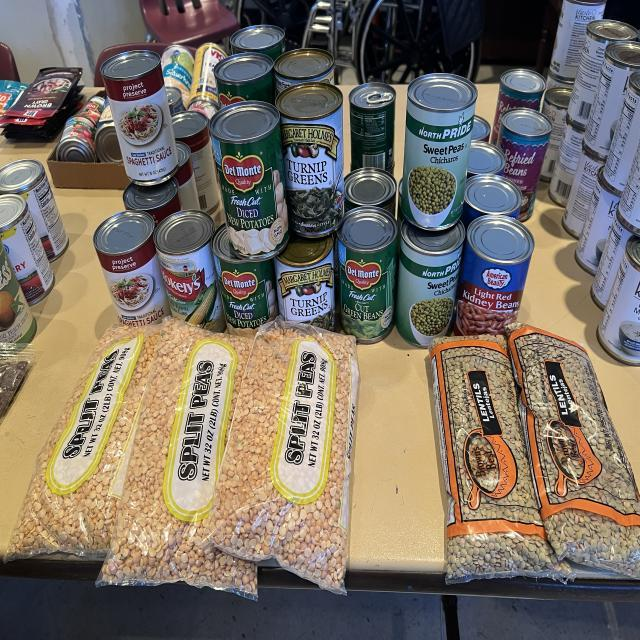Canned Food: (210, 100, 289, 260), (400, 73, 478, 230), (275, 83, 344, 237), (101, 50, 178, 182), (455, 215, 534, 335), (94, 210, 170, 327), (395, 220, 465, 347), (154, 210, 226, 332), (338, 207, 398, 343), (212, 225, 279, 337), (568, 20, 638, 125), (0, 160, 69, 262), (584, 42, 640, 157), (0, 193, 55, 305), (498, 108, 552, 222), (274, 235, 335, 330), (171, 110, 220, 215), (491, 68, 546, 145), (349, 83, 396, 173), (214, 52, 275, 108), (461, 173, 522, 228), (122, 177, 181, 227), (274, 48, 335, 95), (344, 168, 396, 215)
